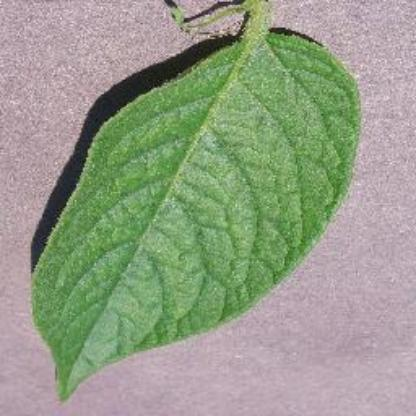Healthy-plant: (34, 2, 362, 404)
